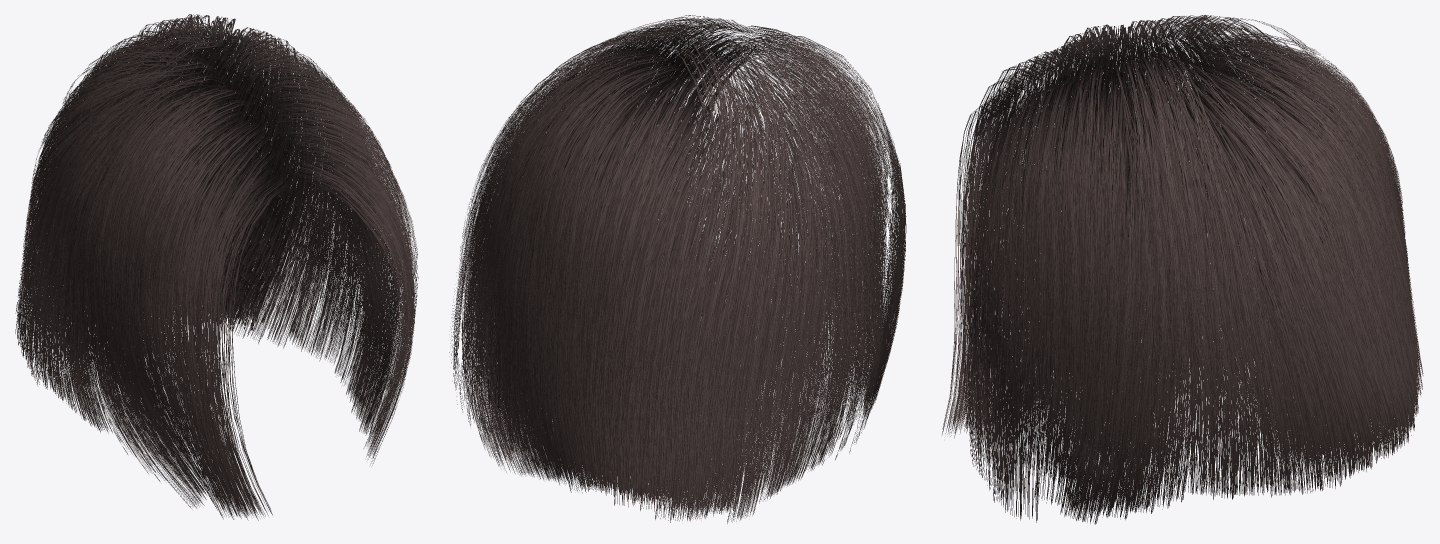
Rendered from Hair05.fbx.
3 renders of one model, left to right at view 1: azimuth 30°, elevation 25°; view 2: azimuth 150°, elevation 25°; view 3: azimuth 270°, elevation 25°, orthographic. The views are drawn at different scales.
Parts seen in each view (by area): view 1: hair5; view 2: hair5; view 3: hair5.
Part boxes in pixels (bbox=[...]): hair5: bbox=[15, 14, 418, 520]; hair5: bbox=[449, 15, 906, 523]; hair5: bbox=[942, 15, 1423, 524].
Bounding box in the file's own units: 19.65 × 25.31 × 24.39.
Materials: 1 (1 with a texture image).
